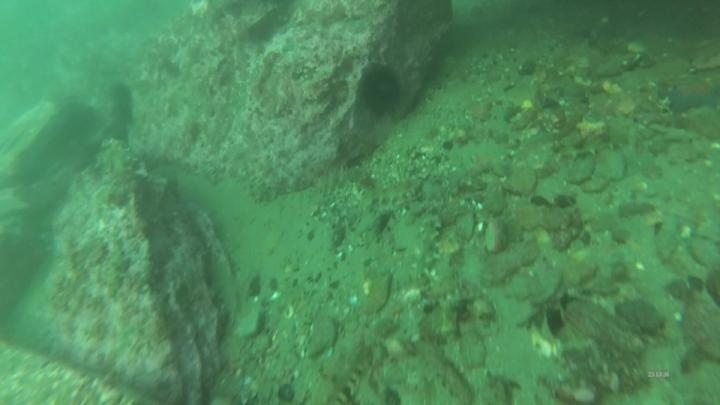echinus: (356, 61, 407, 119)
holothurian: (309, 330, 374, 405), (551, 115, 645, 164), (93, 138, 140, 209), (363, 171, 427, 210), (409, 213, 444, 279)
starfish: (664, 75, 719, 115)
